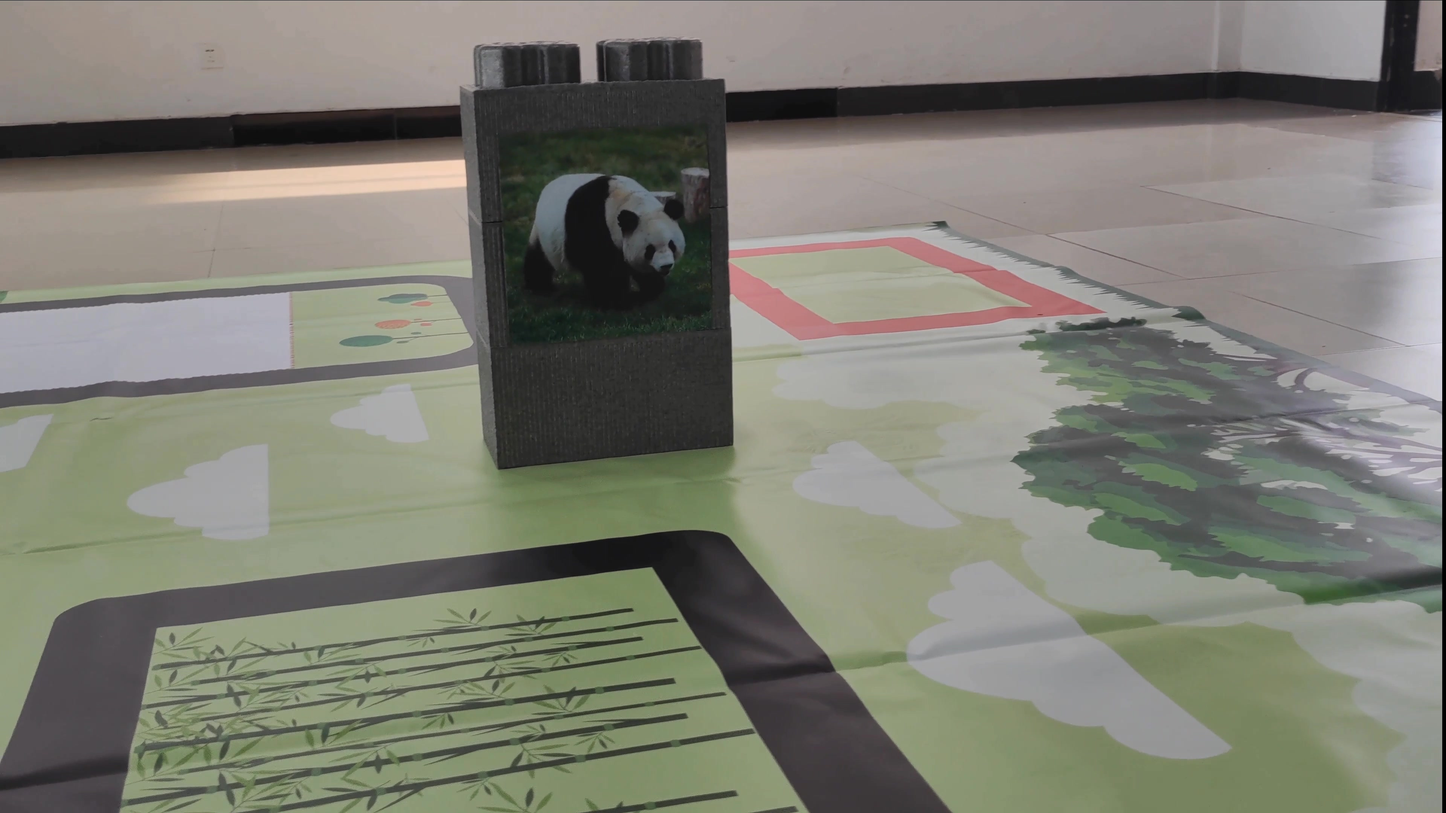panda: (521, 165, 703, 323)
